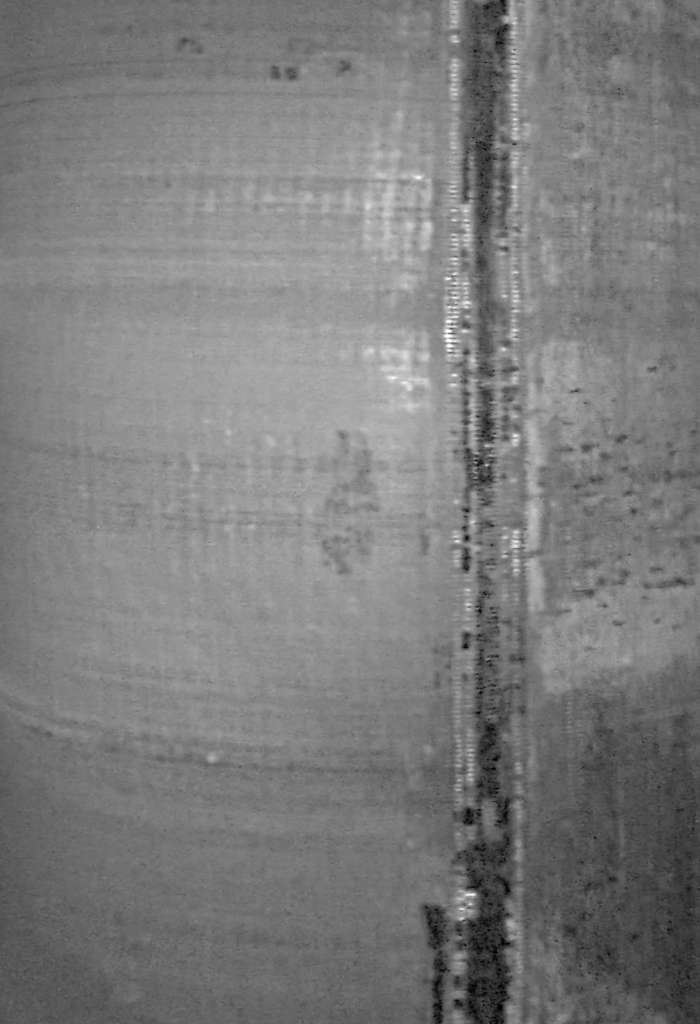splice: (433, 1, 533, 1022)
